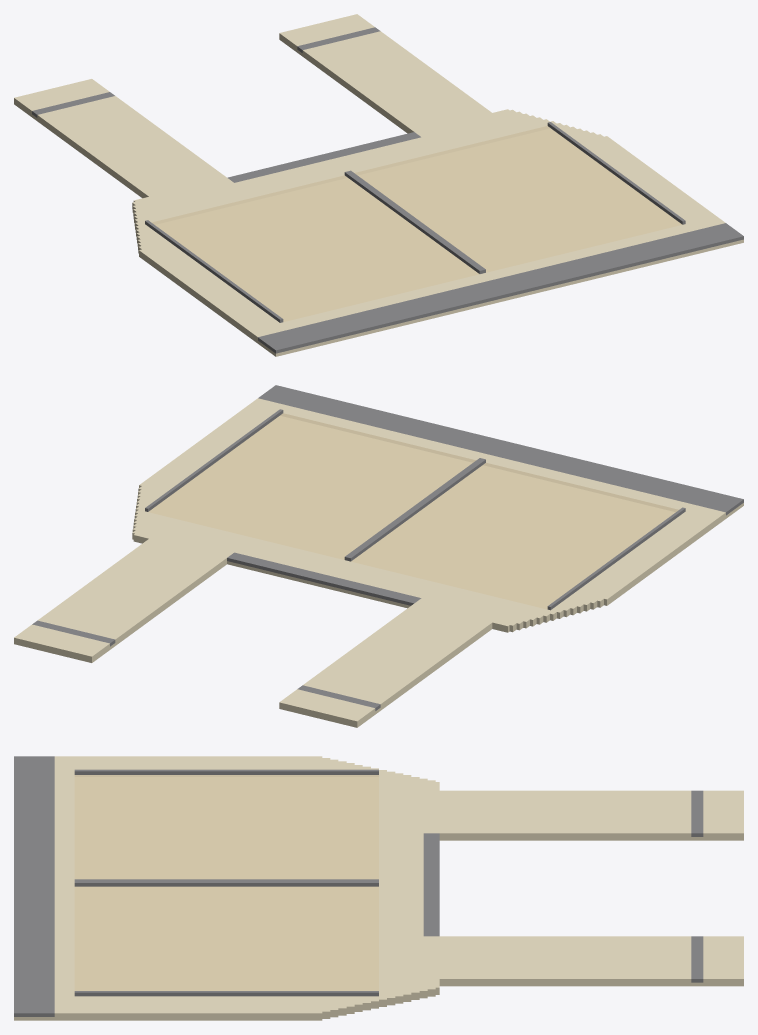
File: binder_top.glb
3 renders of one model, top to bottom at view 1: azimuth 30°, elevation 25°; view 2: azimuth 150°, elevation 25°; view 3: azimuth 270°, elevation 25°, orthographic. The views are drawn at different scales.
Parts seen in each view (by area): view 1: binder_top:compound; view 2: binder_top:compound; view 3: binder_top:compound.
Boxes of the visible parts, bbox=[...] form: binder_top:compound: bbox=[14, 14, 743, 356]; binder_top:compound: bbox=[14, 385, 743, 727]; binder_top:compound: bbox=[14, 756, 743, 1020].
Bounding box in the file's own units: 0.3 × 0.006 × 0.36.
